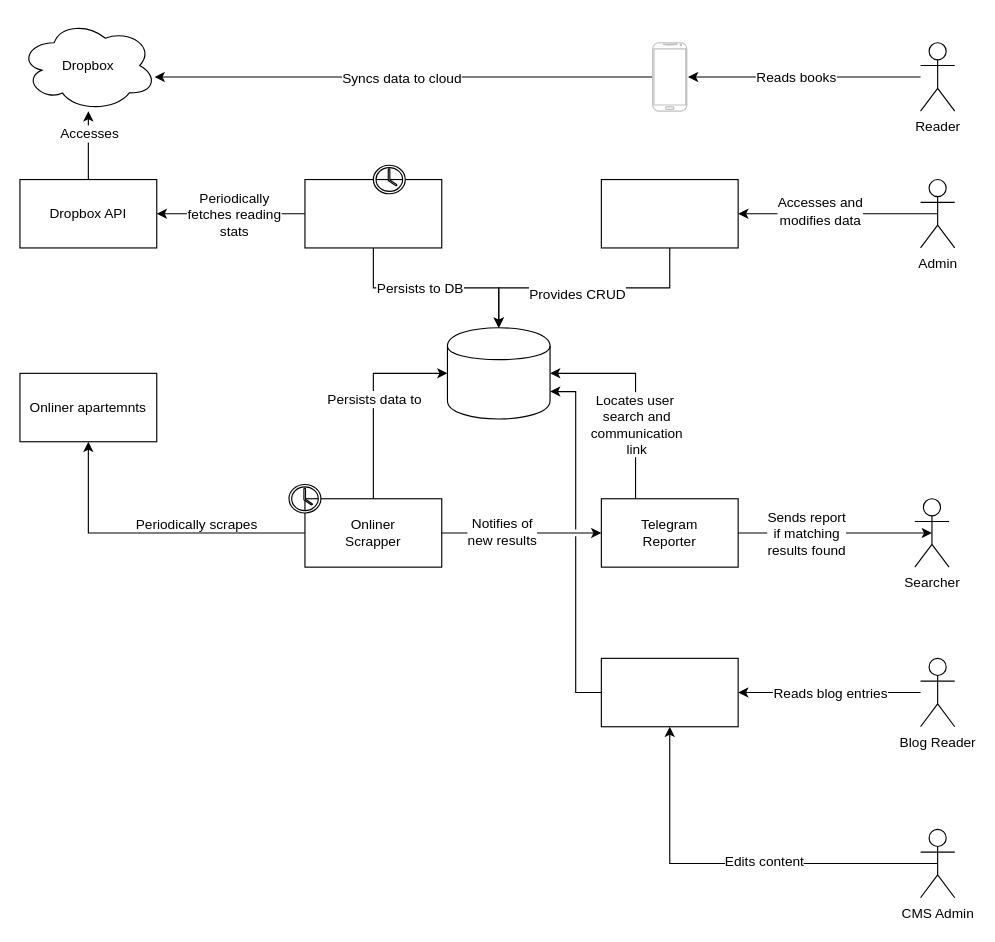
Image size: 995x942. Some labels were removed from this diagram. The shapes that lost their labels are listed below. From the top down, each one's box as (x1, y1, x2, y2) in pixels, then its label:
(652, 42, 687, 111): MoonReader app
(304, 178, 442, 248): Reading stats collector
(600, 178, 738, 248): Admin Pages
(446, 327, 550, 419): Database
(600, 657, 738, 727): CMS Portal
